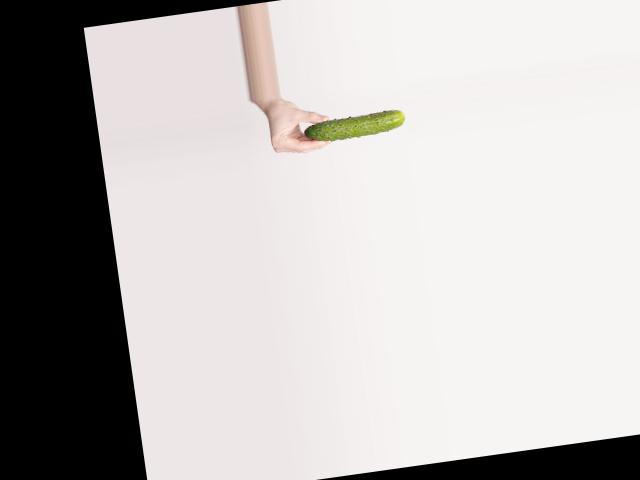cucumber: (302, 110, 405, 144)
